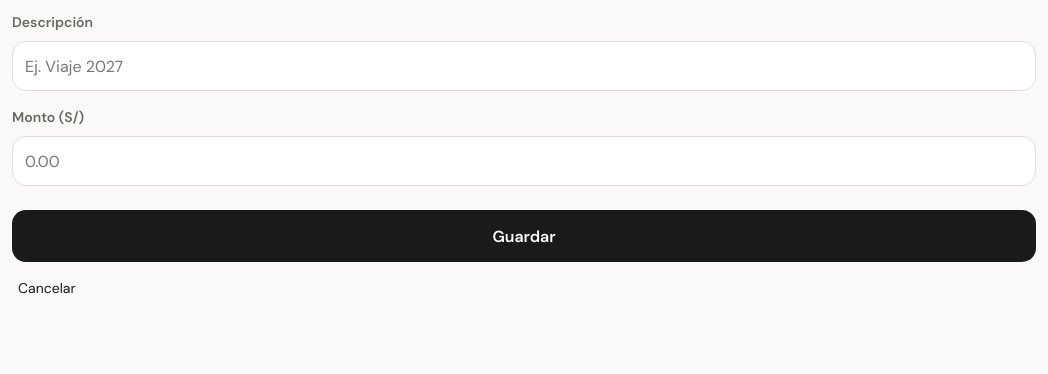
Test: FormularioMetaAhorro › borde: descripción vacía bloquea el envío antes de validar el monto
Type "100" into the field with id "monto-meta" at (524, 161), box [12,136,1036,186]
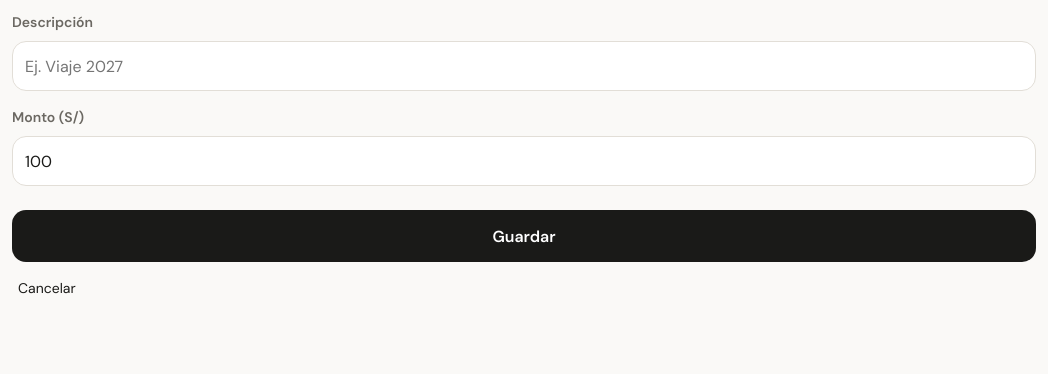
Submit the form
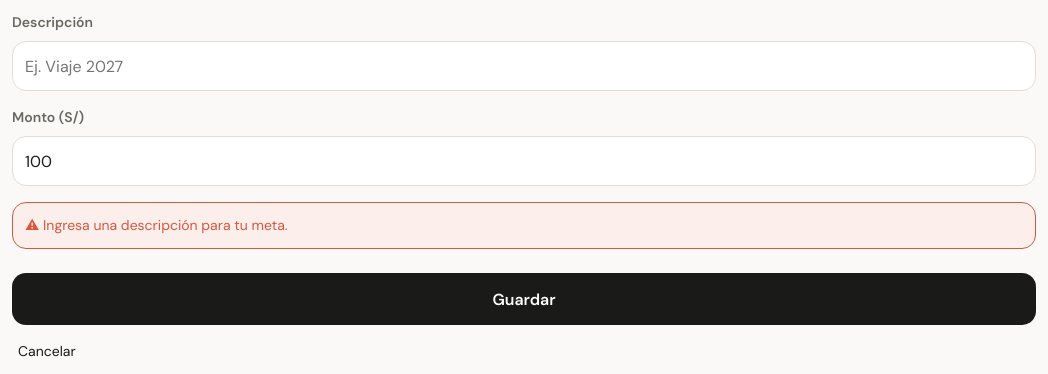
Check: the message "Ingresa una descripción para tu meta." is shown, box [12,202,1036,249]
